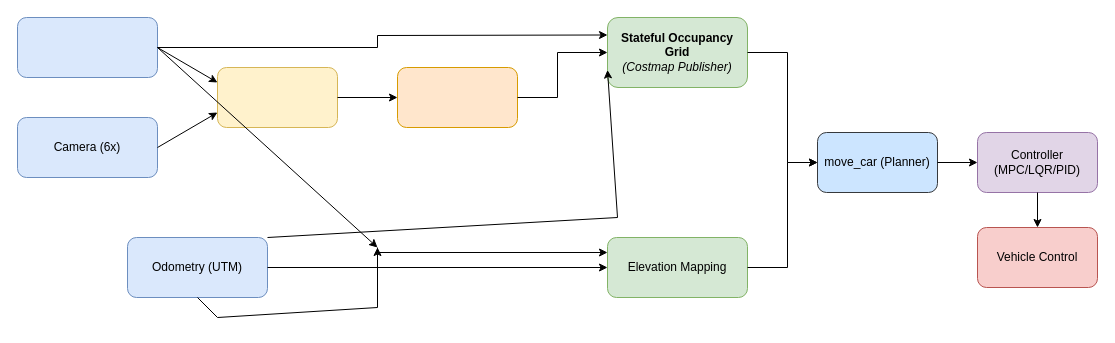
Some shapes in this 1115 by 343 pixel diagram are drawn without their labels. Each missing label, with the box of its shape:
3D BBox/Object List: (396, 66, 518, 128)
BEVFusion: (216, 66, 338, 128)
LIDAR (/lidar_center/pointcloud): (16, 16, 158, 78)
